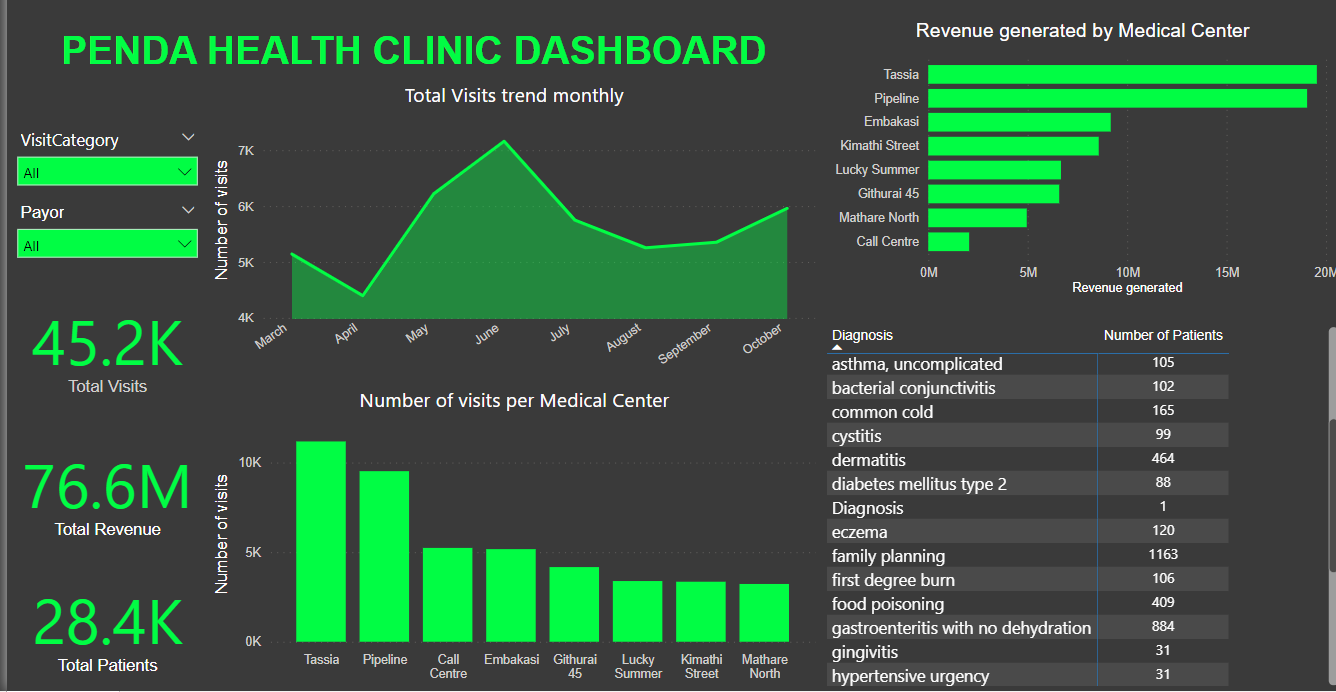

Layout of this report page (visuals, bound fields, positions):
{"tool":"powerbi","page":{"name":"Page 1","canvas":[1280,720],"ordinal":0},"visuals":[{"type":"textbox","box":[0,64.2,779.7,71.7],"z":0},{"type":"card","fields":{"Values":["CountNonNull(Visit_Tbl.VisitCode)"]},"box":[0,322.8,192.6,134],"z":1000},{"type":"card","fields":{"Values":["Sum(Invoice_Tbl.Amount)"]},"box":[0,456.9,192.6,124.6],"z":2000},{"type":"card","fields":{"Values":["Count(Visit_Tbl.PatientCode)"]},"box":[0,581.5,192.6,137.8],"z":3000},{"type":"slicer","fields":{"Values":["Visit_Tbl.Payor"]},"box":[0,247.3,192.6,75.5],"z":4000},{"type":"slicer","fields":{"Values":["Visit_Tbl.VisitCategory"]},"box":[0,175.6,192.6,71.7],"z":5000},{"type":"areaChart","title":"Total Visits trend monthly","fields":{"Category":["Visit_Tbl.VisitDateTime.Variation.Date Hierarchy.Month"],"Y":["CountNonNull(Visit_Tbl.VisitCode)"]},"box":[192.6,164.2,587.1,292.6],"z":6000},{"type":"columnChart","title":"Number of visits per Medical Center","fields":{"Y":["CountNonNull(Visit_Tbl.VisitCode)"],"Category":["Visit_Tbl.MedicalCenter"]},"box":[192.6,456.9,589,262.4],"z":7000},{"type":"barChart","fields":{"Y":["Sum(Invoice_Tbl.Amount)"],"Category":["Visit_Tbl.MedicalCenter"]},"box":[779.7,79.3,500.3,281.3],"z":8000},{"type":"pivotTable","fields":{"Rows":["Diagnosis_Tbl.Diagnosis"],"Values":["CountNonNull(Diagnosis_Tbl.VisitCode)"]},"box":[779.7,360.6,500.3,358.7],"z":9000}]}

Visuals, with their boxes on the page's 1280x720 design canvas (x1, y1, x2, y2). These are canvas units, not pixel positions in the 1336x692 screenshot, which may show the page scaled, cropped or inside an application window:
textbox: box(0, 64, 780, 136)
card - CountNonNull(Visit_Tbl.VisitCode): box(0, 323, 193, 457)
card - Sum(Invoice_Tbl.Amount): box(0, 457, 193, 582)
card - Count(Visit_Tbl.PatientCode): box(0, 582, 193, 719)
slicer - Visit_Tbl.Payor: box(0, 247, 193, 323)
slicer - Visit_Tbl.VisitCategory: box(0, 176, 193, 247)
"Total Visits trend monthly" areaChart: box(193, 164, 780, 457)
"Number of visits per Medical Center" columnChart: box(193, 457, 782, 719)
barChart - Sum(Invoice_Tbl.Amount) x Visit_Tbl.MedicalCenter: box(780, 79, 1280, 361)
pivotTable - Diagnosis_Tbl.Diagnosis x CountNonNull(Diagnosis_Tbl.VisitCode): box(780, 361, 1280, 719)
